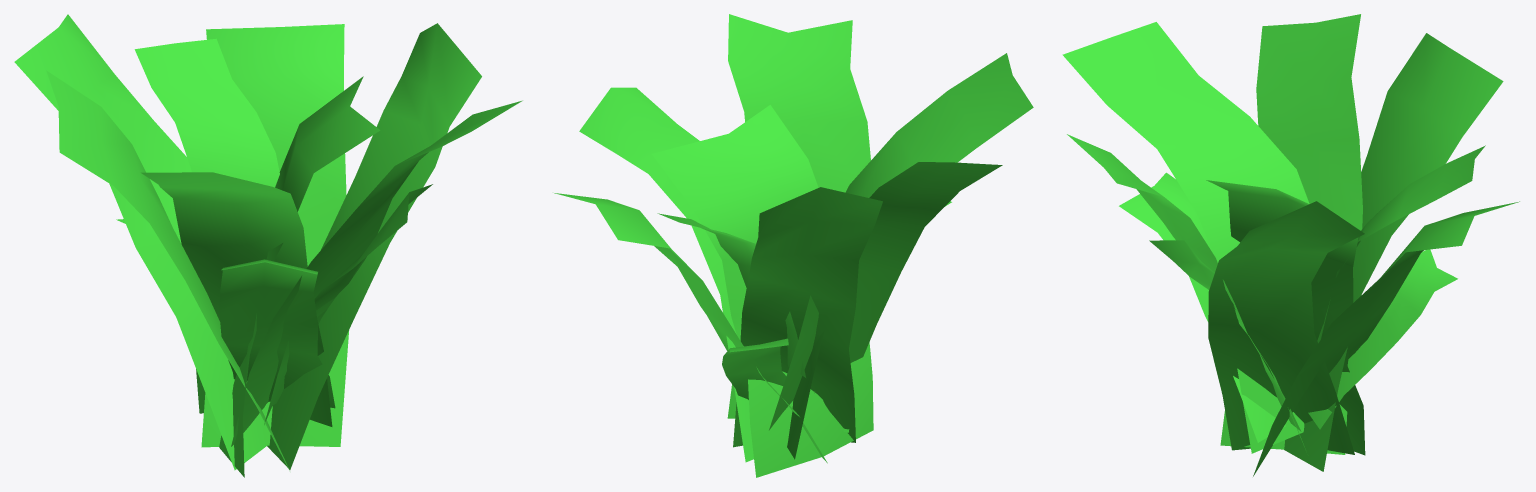
Rendered from Fern1.fbx.
The picture shows the model from 3 angles, left to right: view 1: azimuth 30°, elevation 25°; view 2: azimuth 150°, elevation 25°; view 3: azimuth 270°, elevation 25°; orthographic projection. The views are drawn at different scales.
Parts seen in each view (by area): view 1: Plane; view 2: Plane; view 3: Plane.
Part boxes in pixels (box(x1,y1,x2,y2)): Plane: box(14, 14, 522, 477); Plane: box(554, 14, 1033, 477); Plane: box(1062, 14, 1519, 476).
Size of the model in its own units: 2.27 by 2.05 by 2.36.
